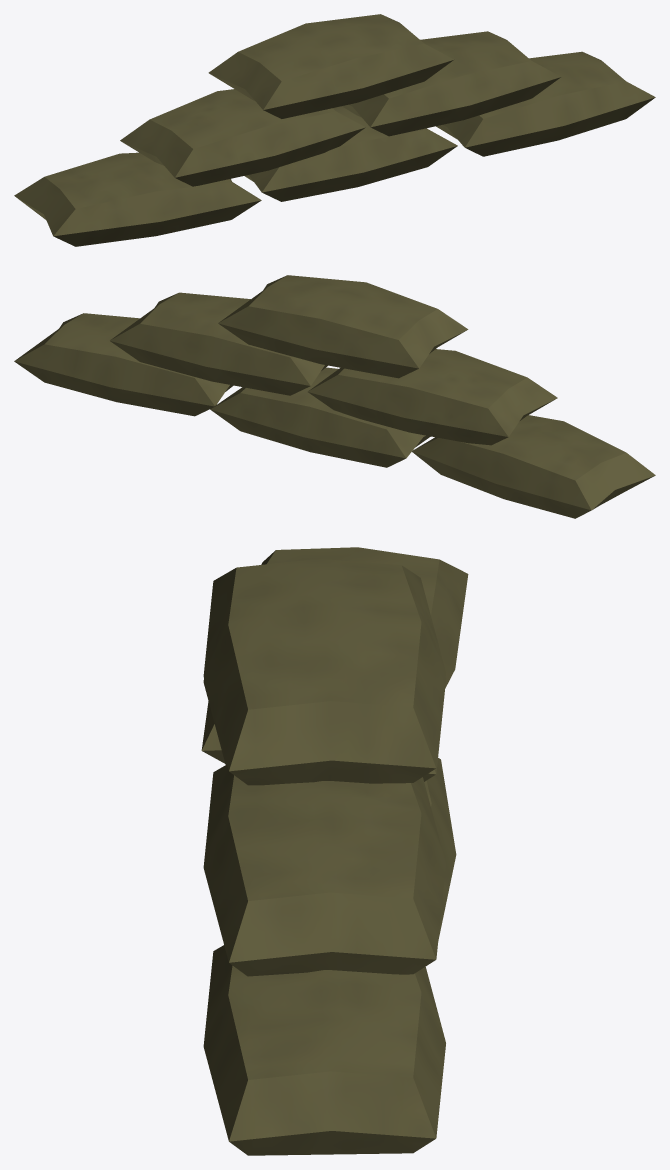
The model's file is BagsInPyramide.fbx.
3 renders of one model, top to bottom at view 1: azimuth 30°, elevation 25°; view 2: azimuth 150°, elevation 25°; view 3: azimuth 270°, elevation 25°, orthographic. The views are drawn at different scales.
Visible parts, largest first — view 1: Cube.048; view 2: Cube.048; view 3: Cube.048.
Part boxes in pixels (box(x1,y1,x2,y2)): Cube.048: box(14, 14, 655, 246); Cube.048: box(14, 275, 655, 518); Cube.048: box(201, 547, 468, 1155).
Bounding box in the file's own units: 424 × 93.78 × 82.41.
